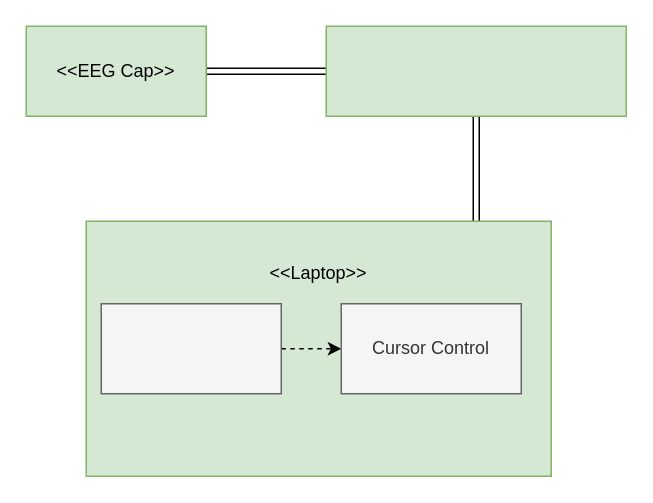
This 653x503 diagram has some shape labels left out. The shapes that lost their labels are listed below. From the top down, each one's box as (x1, y1, x2, y2) in pixels, then its label:
(325, 25, 626, 116): <<EEG Recorder/Amplifier>>
(100, 302, 281, 394): Machine Learning Model
